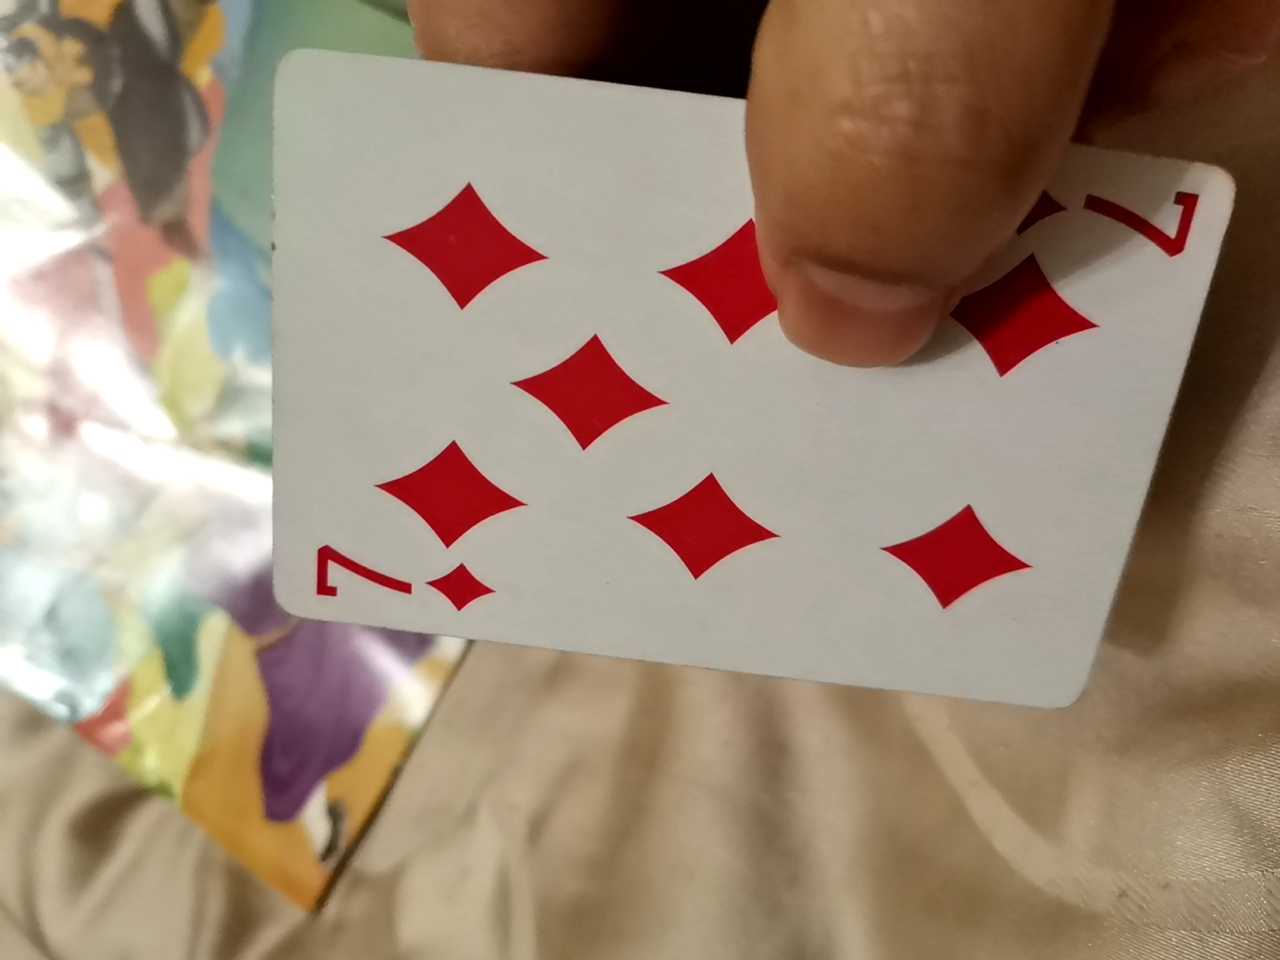fk 7: (246, 81, 1237, 733)
